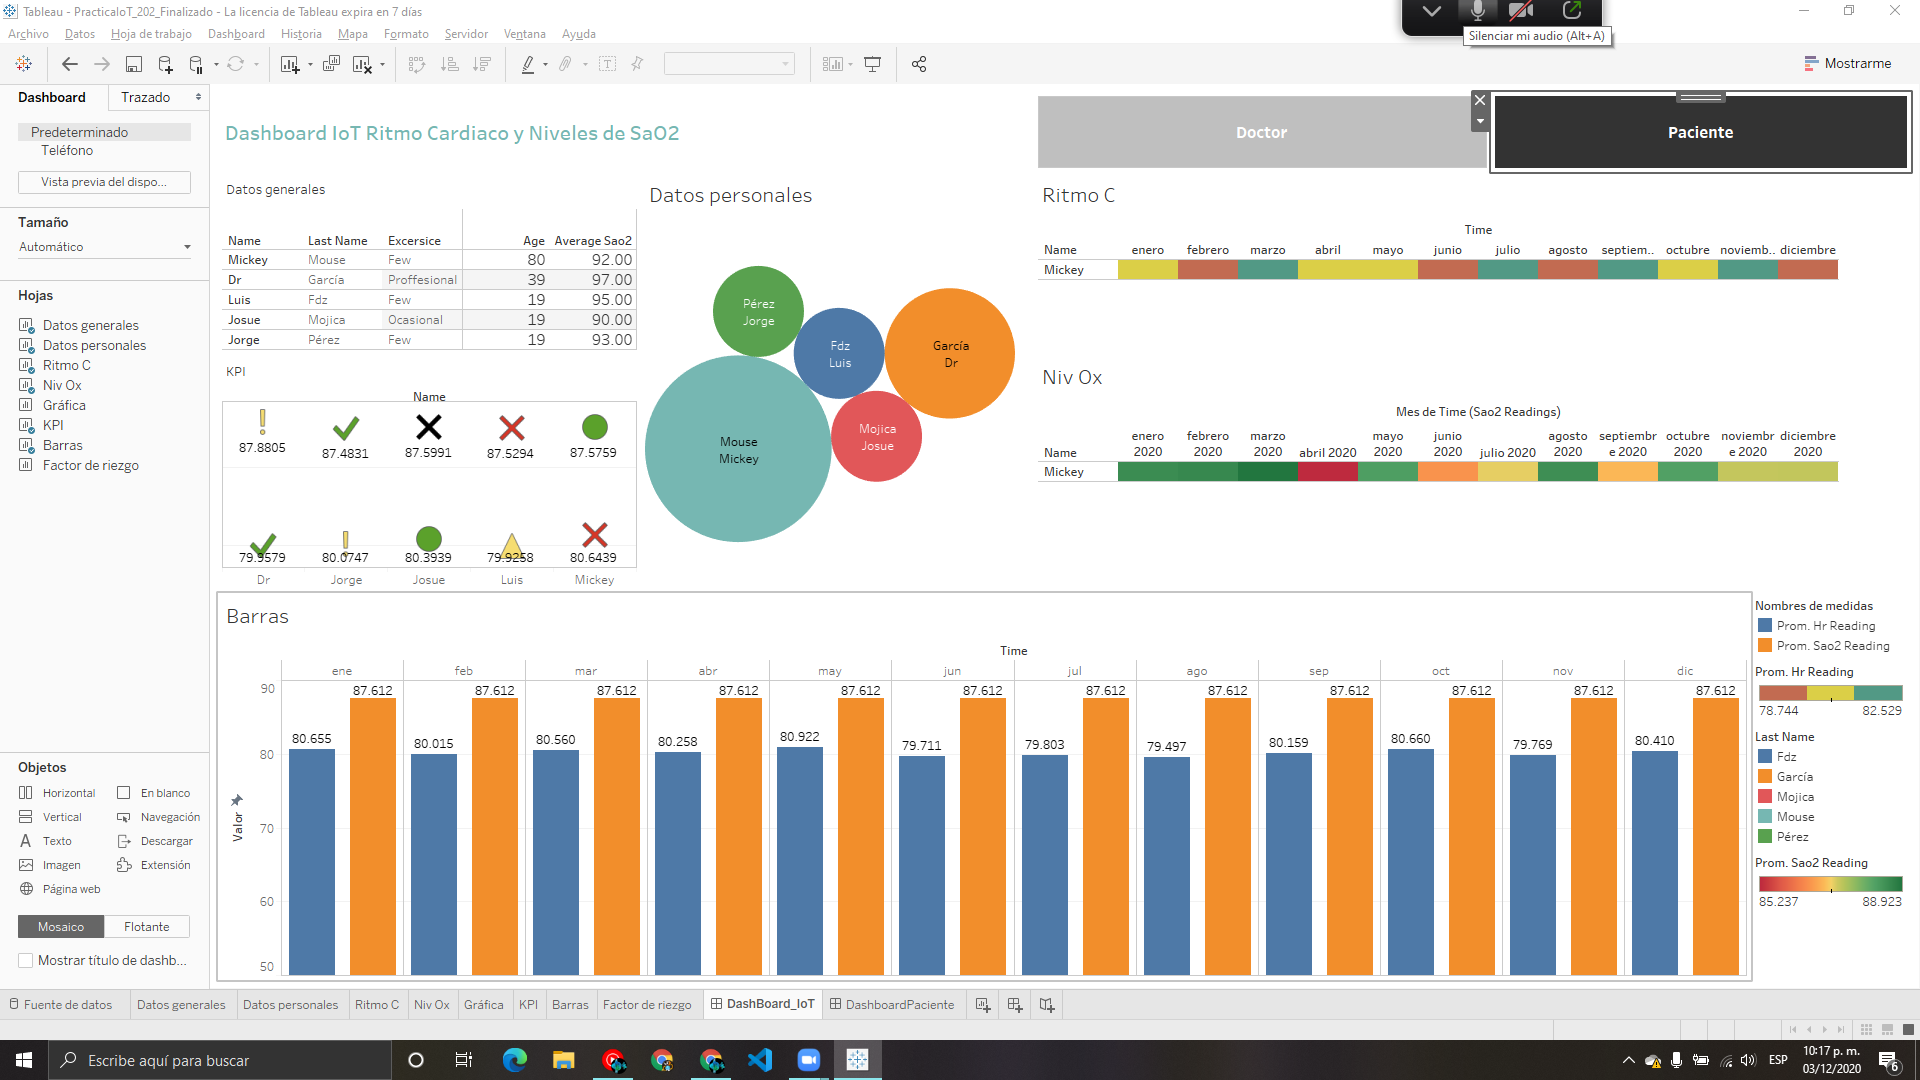

The page's visual inventory and layout, read from the dashboard file:
{"tool":"tableau","page":{"name":"DashBoard_IoT","canvas":[1000,1000],"units":"permille","ordinal":0},"visuals":[{"type":"worksheet","box":[0,0,1000,1000]},{"type":"worksheet","box":[4.7,8.8,477.5,88.5]},{"type":"worksheet","param":"horz","box":[482.1,8.8,267.4,88.5]},{"type":"worksheet","box":[482.1,8.8,267.4,88.5]},{"type":"worksheet","box":[749.6,8.8,245.8,88.5]},{"type":"worksheet","title":"Ritmo C","mark":"Automatic","rows":["name"],"cols":["time"],"box":[482.1,97.3,513.2,201.3]},{"type":"worksheet","title":"Datos generales","mark":"Automatic","rows":["name","last_name","excersice"],"box":[4.7,97.4,247.7,201.3]},{"type":"worksheet","title":"Datos personales","mark":"Circle","box":[252.3,97.4,229.8,465.7]},{"type":"worksheet","title":"KPI","mark":"Shape","rows":["sao2_reading","hr_reading"],"cols":["name"],"box":[4.7,298.7,247.7,264.4]},{"type":"worksheet","title":"Niv Ox","mark":"Automatic","rows":["name"],"cols":["time (sao2_readings)"],"box":[482.1,298.7,513.2,264.4]},{"type":"worksheet","param":"horz","box":[4.7,563.1,990.6,428.1]},{"type":"worksheet","box":[4.7,563.1,897,428.1]},{"type":"worksheet","title":"Barras","mark":"Bar","cols":["time"],"box":[4.7,563.1,897,428.1]},{"type":"worksheet","param":"vert","box":[901.7,563.1,93.6,428.1]},{"type":"worksheet","title":"Barras","mark":"Bar","cols":["time"],"param":"[federated.04eye4o0rm1ksa1a4cr5q0xdcwov].[:Measure Names]","box":[901.7,563.1,93.6,73]},{"type":"worksheet","title":"Ritmo C","mark":"Automatic","rows":["name"],"cols":["time"],"param":"[federated.04eye4o0rm1ksa1a4cr5q0xdcwov].[avg:hr_reading:qk]","box":[901.7,636.1,93.6,71.9]},{"type":"worksheet","title":"Datos personales","mark":"Circle","param":"[federated.04eye4o0rm1ksa1a4cr5q0xdcwov].[none:last_name:nk]","box":[901.7,708,93.6,139.4]},{"type":"worksheet","title":"Niv Ox","mark":"Automatic","rows":["name"],"cols":["time (sao2_readings)"],"param":"[federated.04eye4o0rm1ksa1a4cr5q0xdcwov].[avg:sao2_reading:qk]","box":[901.7,847.3,93.6,71.9]}]}

Visuals, with their boxes on the dashboard's canvas, which has no fixed pixel size, in thousandths of its width and height (x1, y1, x2, y2). These are canvas units, not pixel positions in the 1920x1080 screenshot, which may show the page scaled, cropped or inside an application window:
worksheet: <box>0,0,1000,1000</box>
worksheet: <box>5,9,482,97</box>
worksheet: <box>482,9,750,97</box>
worksheet: <box>482,9,750,97</box>
worksheet: <box>750,9,995,97</box>
"Ritmo C" worksheet: <box>482,97,995,299</box>
"Datos generales" worksheet: <box>5,97,252,299</box>
"Datos personales" worksheet (Circle marks): <box>252,97,482,563</box>
"KPI" worksheet (Shape marks): <box>5,299,252,563</box>
"Niv Ox" worksheet: <box>482,299,995,563</box>
worksheet: <box>5,563,995,991</box>
worksheet: <box>5,563,902,991</box>
"Barras" worksheet (Bar marks): <box>5,563,902,991</box>
worksheet: <box>902,563,995,991</box>
"Barras" worksheet (Bar marks): <box>902,563,995,636</box>
"Ritmo C" worksheet: <box>902,636,995,708</box>
"Datos personales" worksheet (Circle marks): <box>902,708,995,847</box>
"Niv Ox" worksheet: <box>902,847,995,919</box>
